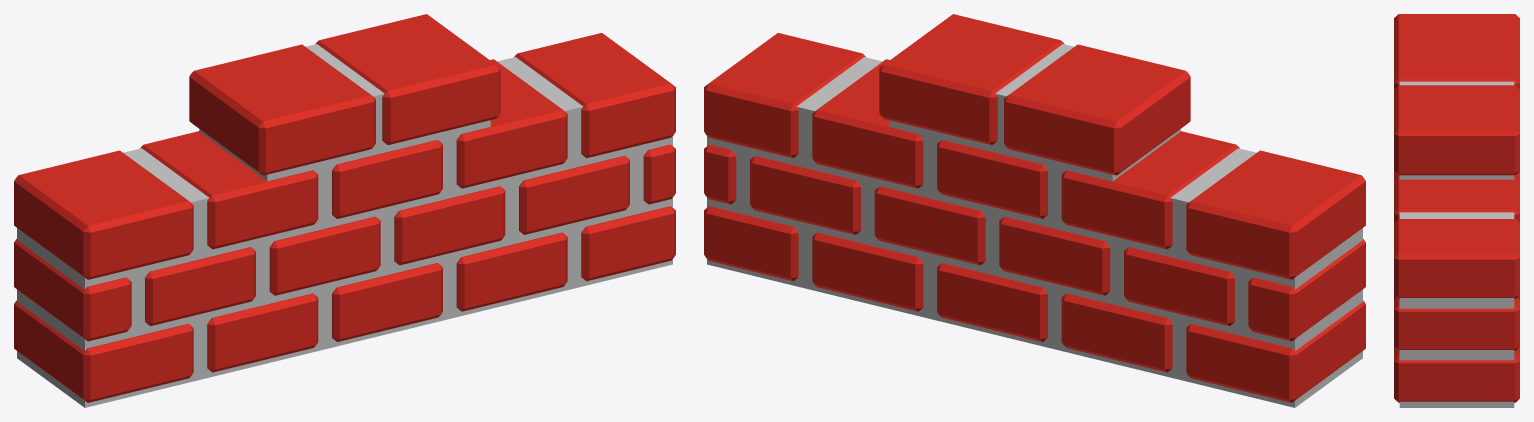
File: TrainingBrick_Split.fbx
3 views of the same model, side by side, from view 1: azimuth 30°, elevation 25°; view 2: azimuth 150°, elevation 25°; view 3: azimuth 270°, elevation 25° (orthographic). The views are drawn at different scales.
Parts seen in each view (by area): view 1: TrainingBricks_L, TrainingBricks_R, TrainingBricks_Mortar_L, TrainingBricks_Mortar_R; view 2: TrainingBricks_L, TrainingBricks_R, TrainingBricks_Mortar_L, TrainingBricks_Mortar_R; view 3: TrainingBricks_R, TrainingBricks_L, TrainingBricks_Mortar_R, TrainingBricks_Mortar_L.
Part boxes in pixels (left/top/right/bottom): TrainingBricks_L: left=14, top=44, right=382, bottom=402; TrainingBricks_R: left=315, top=14, right=675, bottom=331; TrainingBricks_Mortar_L: left=17, top=45, right=378, bottom=407; TrainingBricks_Mortar_R: left=311, top=44, right=672, bottom=335; TrainingBricks_L: left=997, top=44, right=1365, bottom=402; TrainingBricks_R: left=704, top=14, right=1064, bottom=331; TrainingBricks_Mortar_L: left=1001, top=45, right=1362, bottom=407; TrainingBricks_Mortar_R: left=707, top=44, right=1068, bottom=335; TrainingBricks_R: left=1394, top=85, right=1519, bottom=402; TrainingBricks_L: left=1394, top=14, right=1519, bottom=89; TrainingBricks_Mortar_R: left=1399, top=84, right=1514, bottom=407; TrainingBricks_Mortar_L: left=1399, top=81, right=1514, bottom=83.
Bounding box in the file's own units: 5.04 × 1.98 × 1.1.
